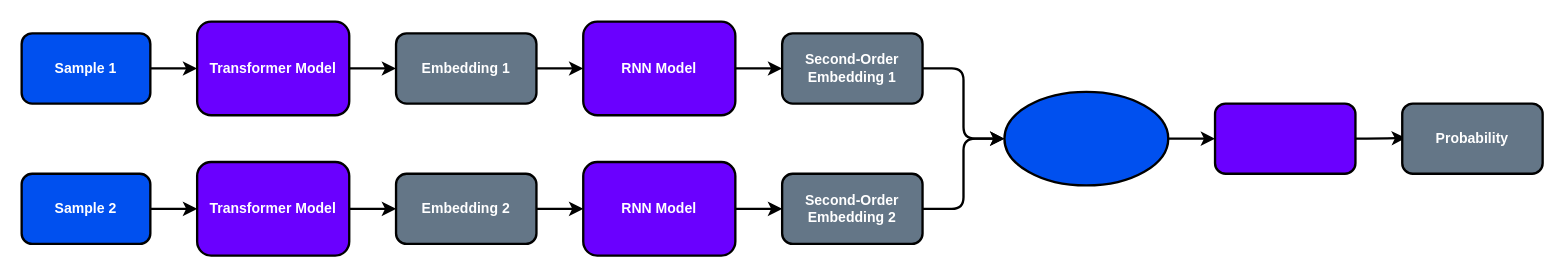
This 1563x276 diagram has some shape labels left out. Each missing label, with the centre of its shape:
Sigmoid: point (1284, 138)
Similarity Function: point (1086, 138)
